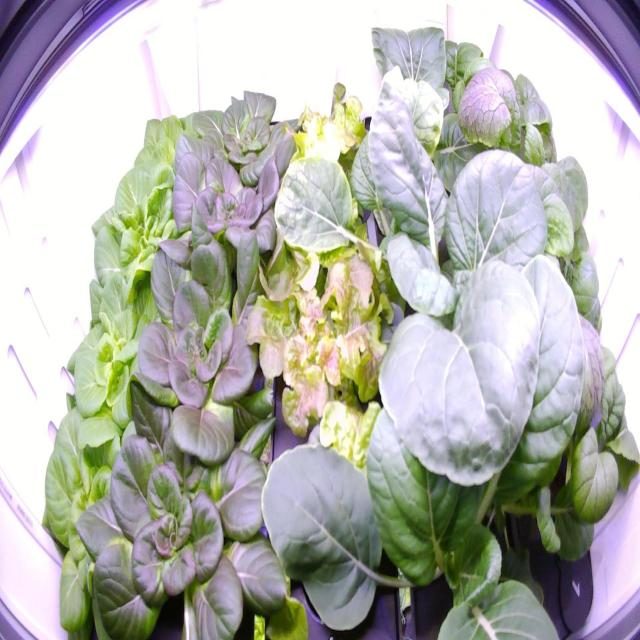young: (72, 376, 302, 637), (120, 219, 296, 471), (33, 377, 189, 638), (56, 252, 195, 444), (162, 118, 300, 279), (86, 154, 206, 316), (178, 72, 307, 218), (117, 94, 230, 224)
